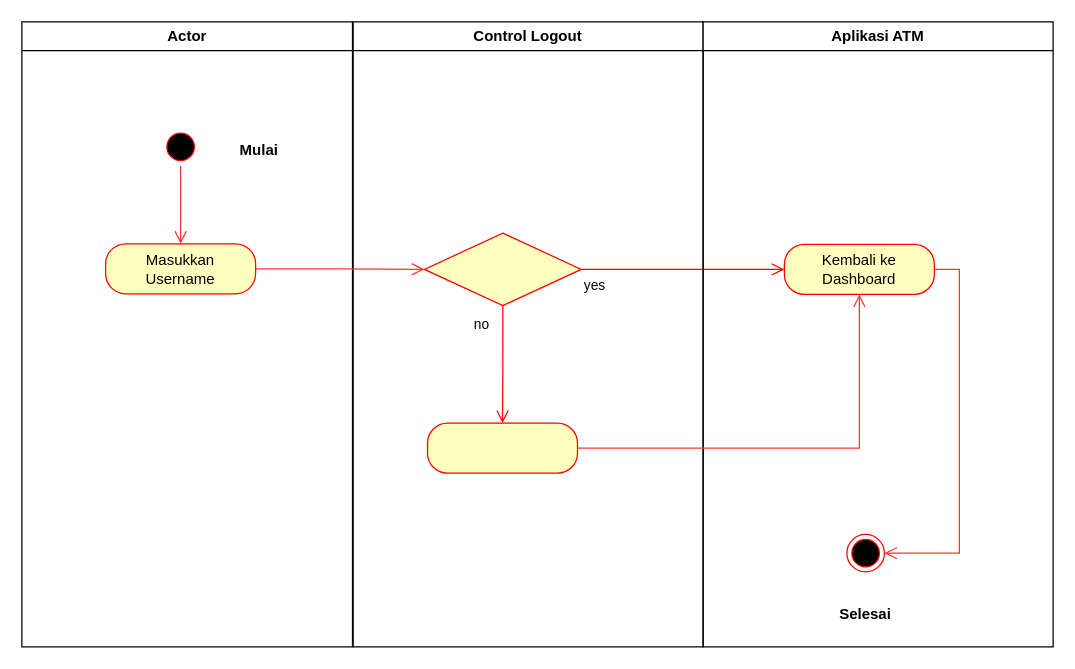
Image size: 1075x669. Some labels were removed from this diagram. Here are the shapes that lost their labels. From the top down, the centre of each, then its label:
At point 502,269: "tekan simpan".
At point 502,447: "Hapus session".
